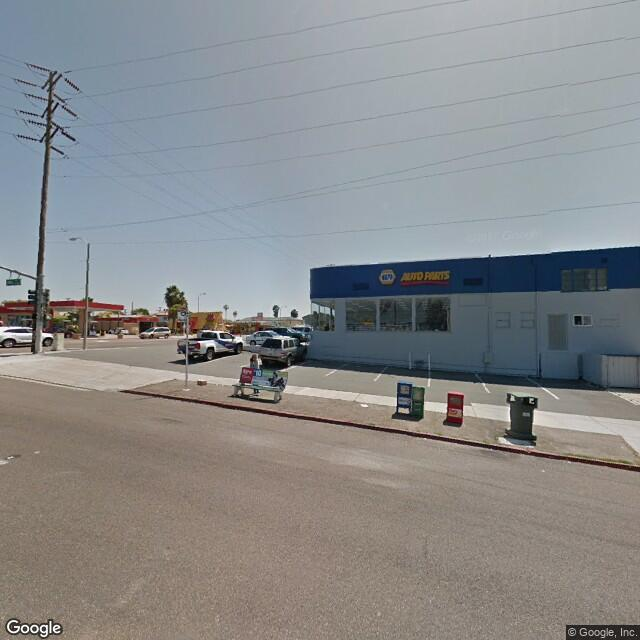litter: (355, 397, 387, 420)
